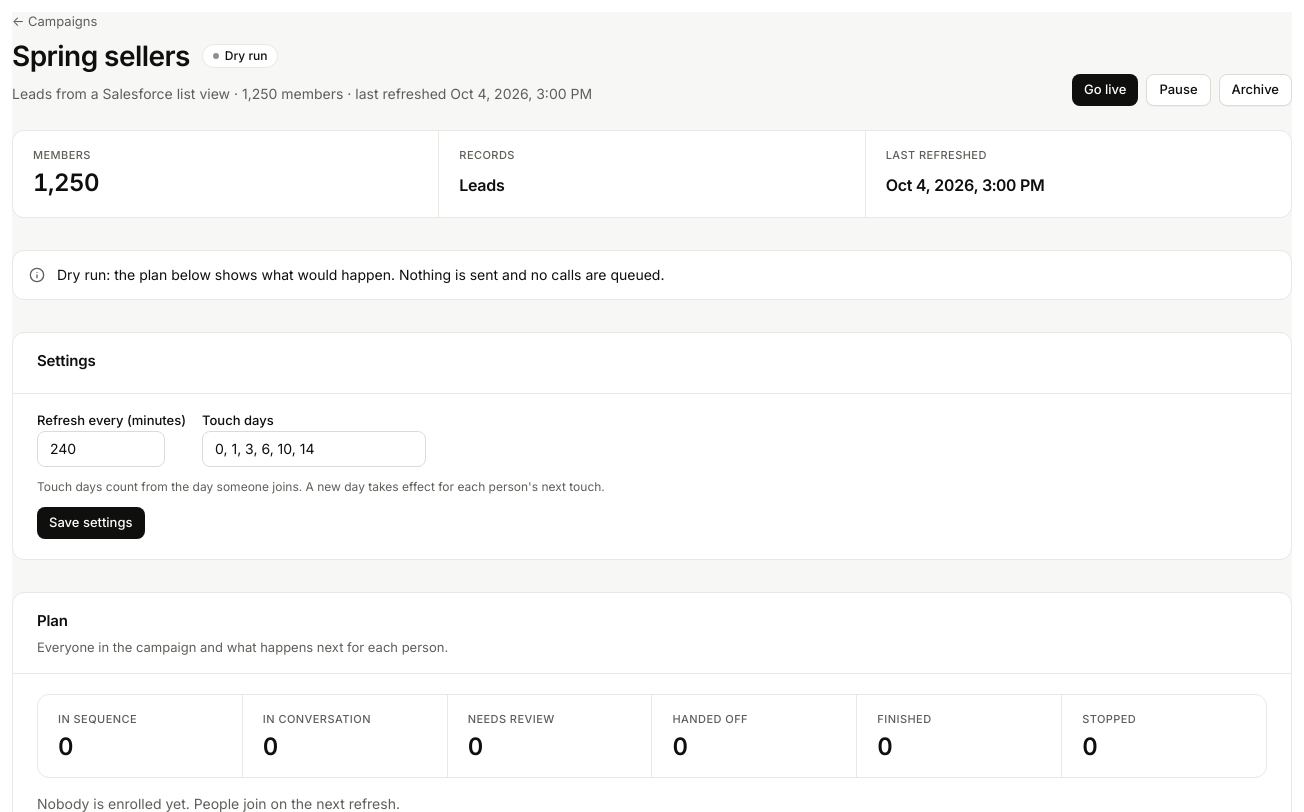
it: CampaignDetail settings › lets an admin change the refresh interval and touch days
Replace the text in the number field labelled "Refresh every (minutes)" with "120" at (101, 449), box [37,431,165,467]
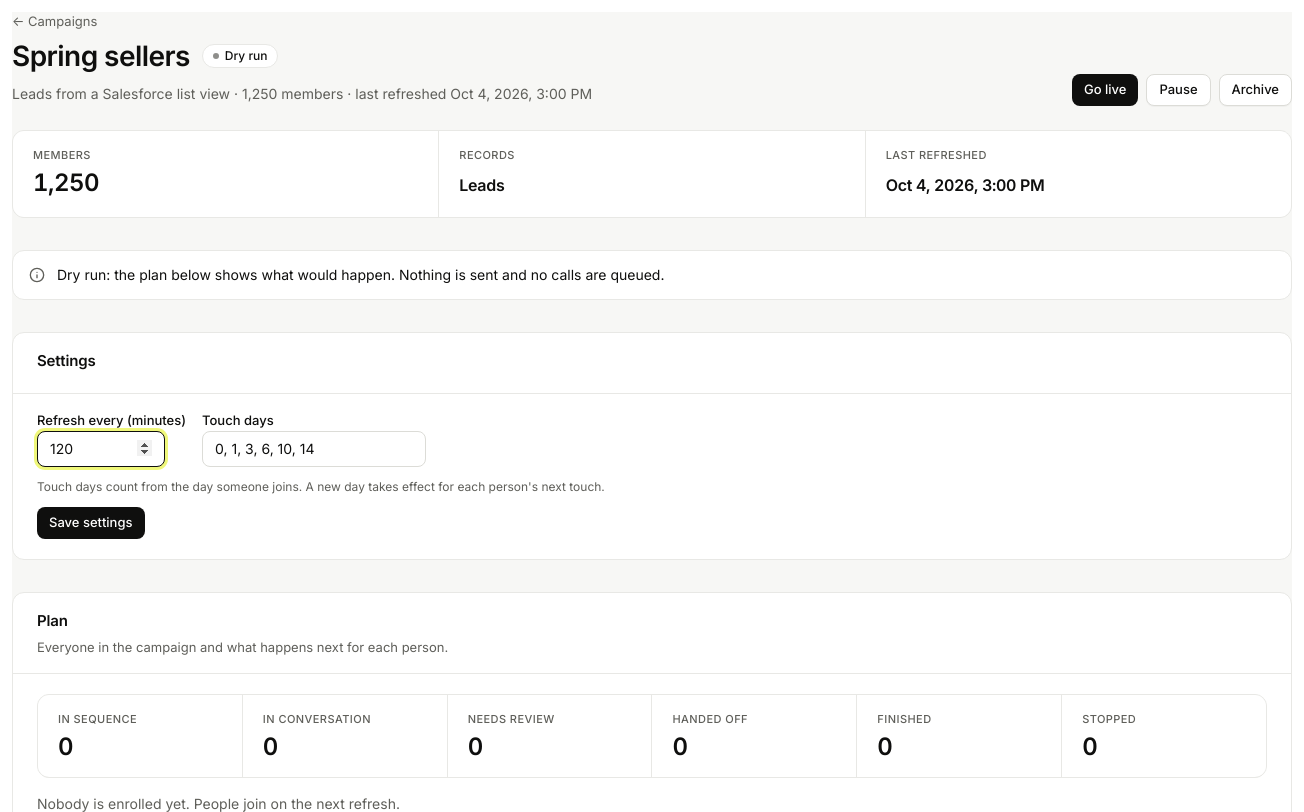
Replace the text in the field labelled "Touch days" with "0, 2, 5" at (314, 449), box [202,431,426,467]
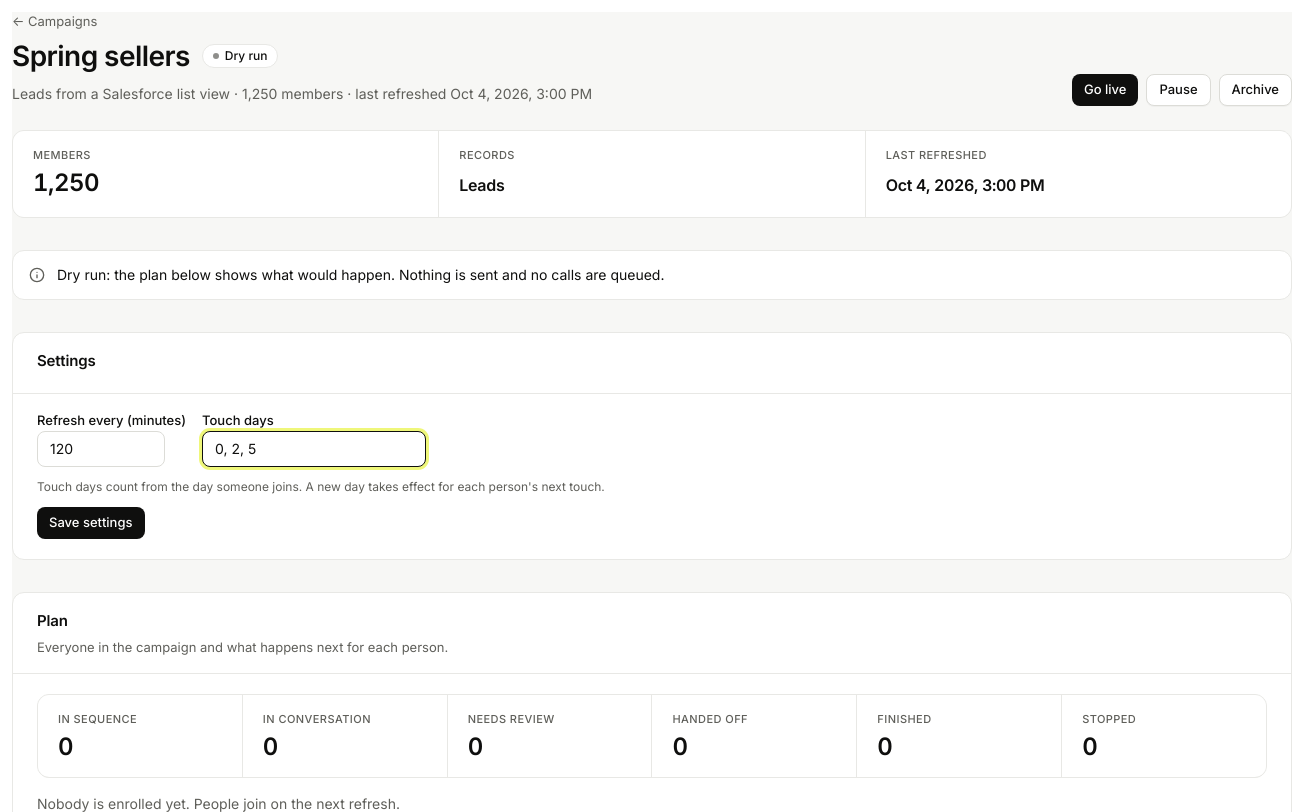
Click the button "Save settings".
click(91, 523)  # box [37,507,144,539]
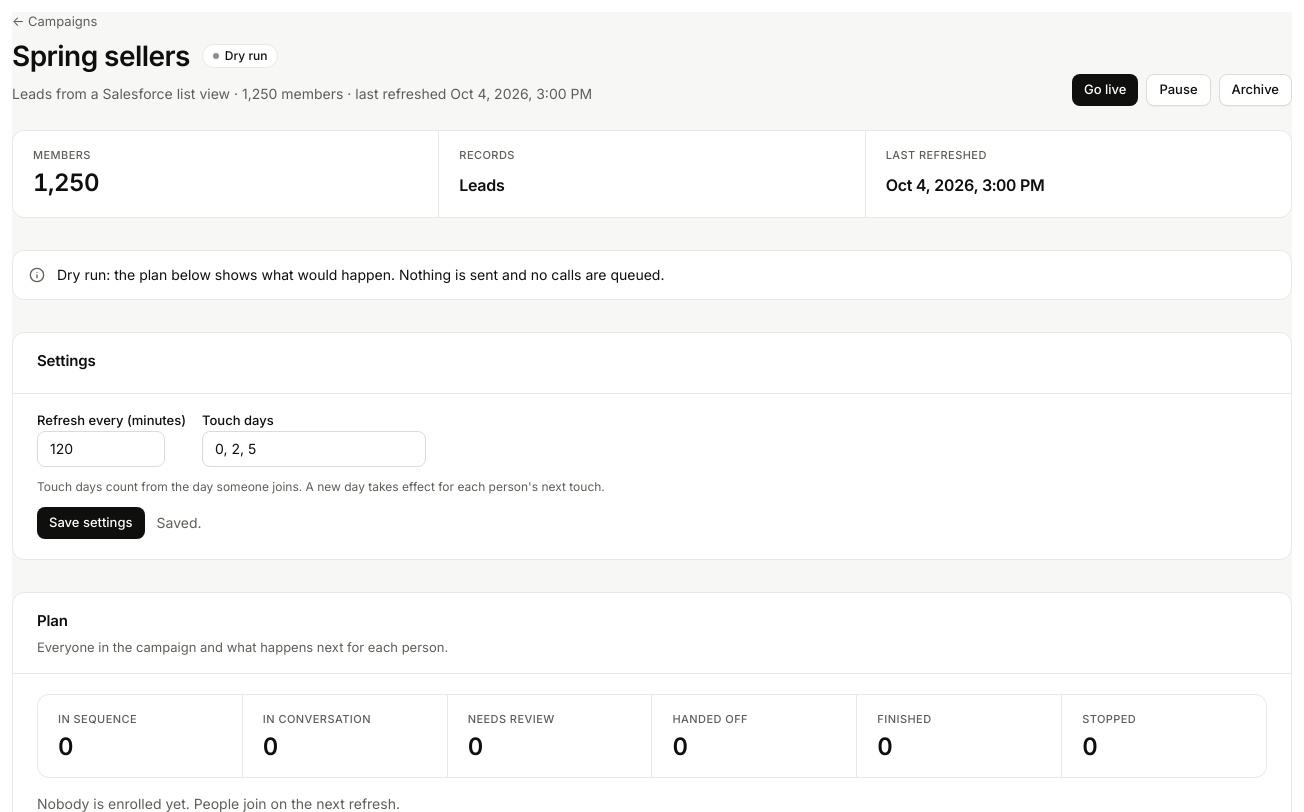
Now the text "Saved." is shown, box [156,513,202,533]
